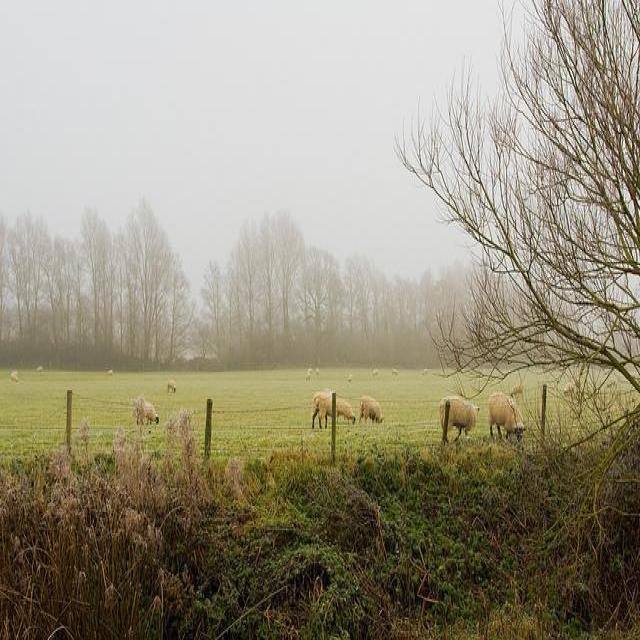Sheep: (7, 358, 336, 422), (488, 392, 530, 444)
